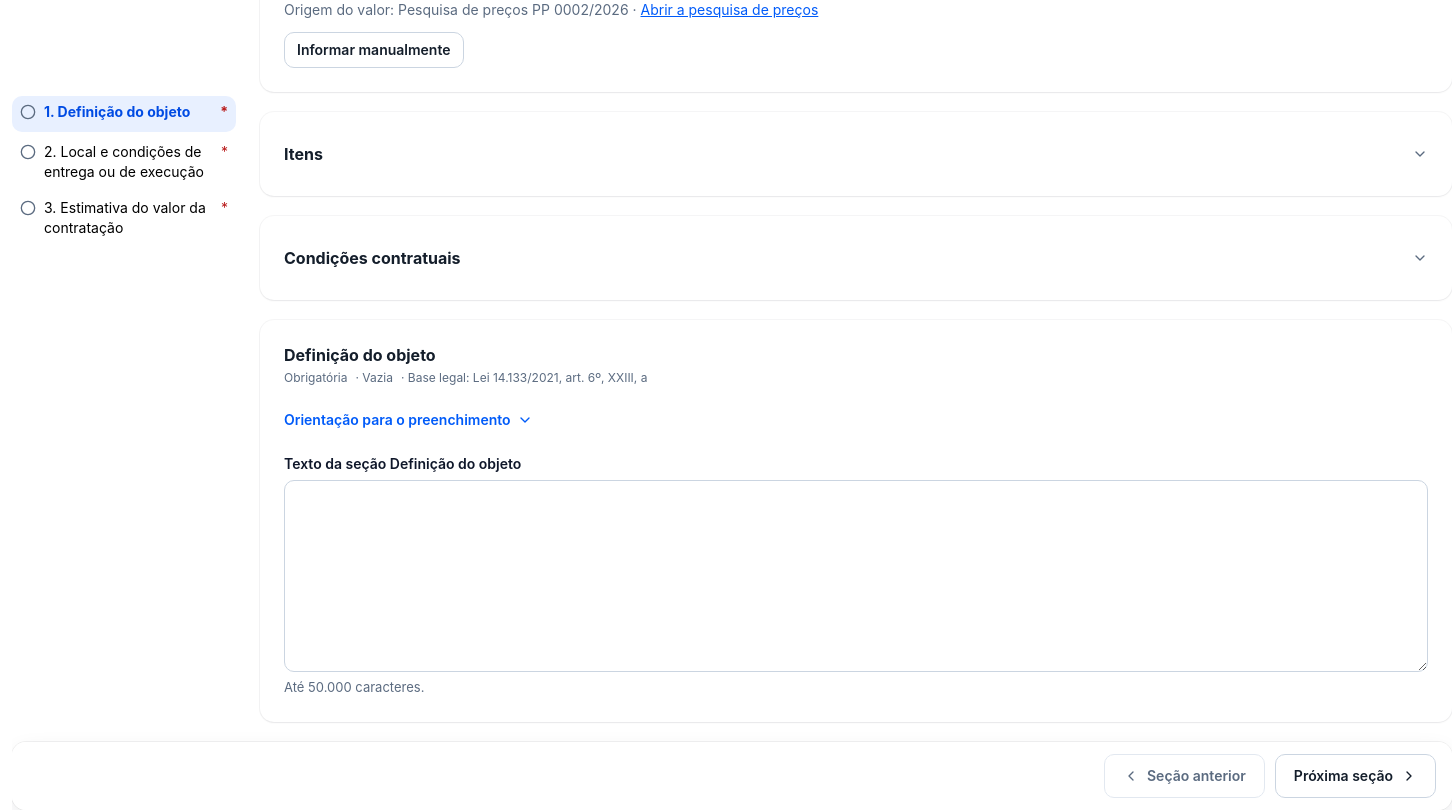
Test: SCR-012 — editar seções do TR (US-036) › [Sucesso] navegação lateral: ordem, estado, obrigatoriedade, aria-current e completude inicial
The image size is (1452, 810).
(page scrolled)
Expected: the text "· Base legal: Lei 14.133/2021, art. 6º, XXIII, a" is shown, [401,370,647,386]
Step 1. Click the button "Orientação para o preenchimento" → [397, 420], box [284,402,1428,438]
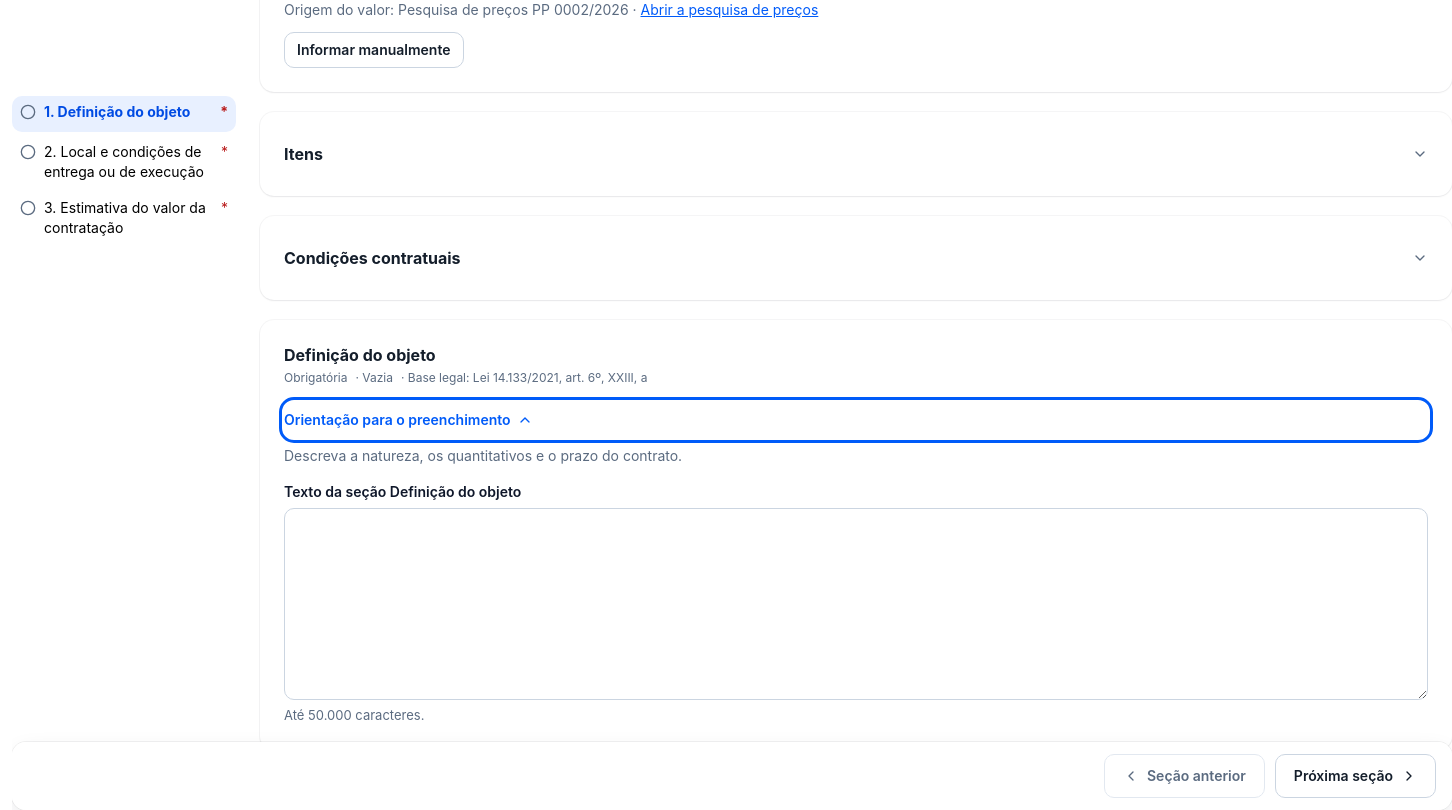
Expected: the text "Descreva a natureza, os quantitativos e o prazo do contrato." is shown, [284,447,682,464]
